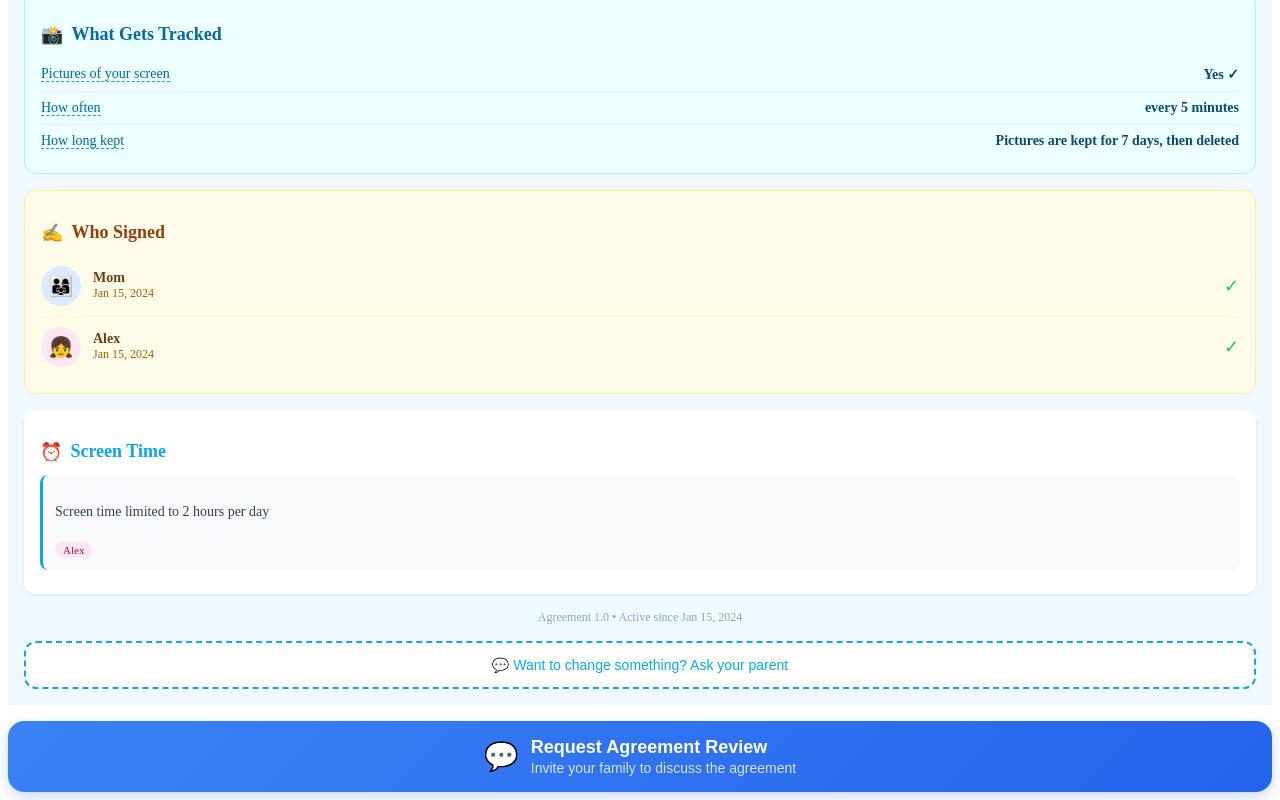
Scenario: ChildAgreementContainer › Task 6.2: Pass necessary data to modal › should pass parentName to modal for confirmation message
The width and height of the screenshot is (1280, 800).
(page scrolled)
Step 1. Click the button with test id "request-change-button" → x=640, y=665, box [24, 641, 1256, 689]
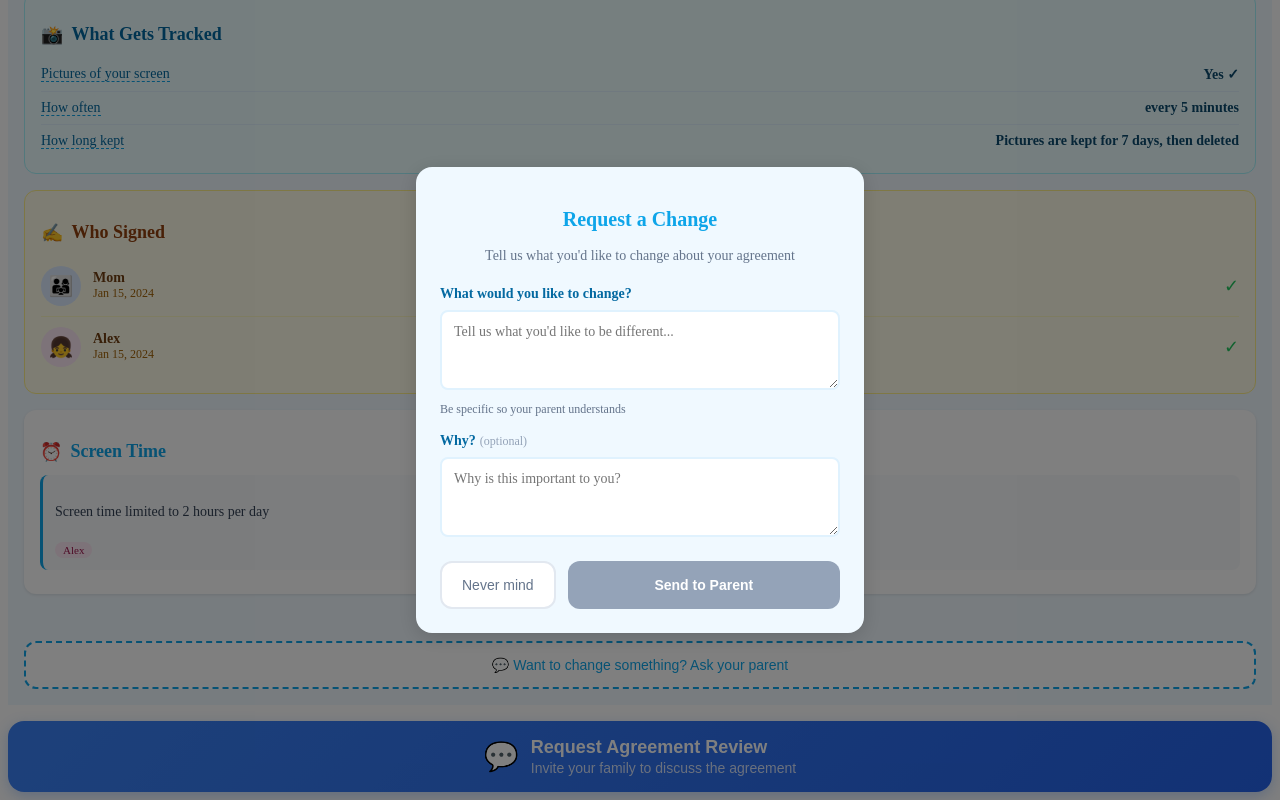
Step 2. Type "More screen time" into the text box with test id "what-to-change-input" → x=640, y=350, box [440, 310, 840, 390]
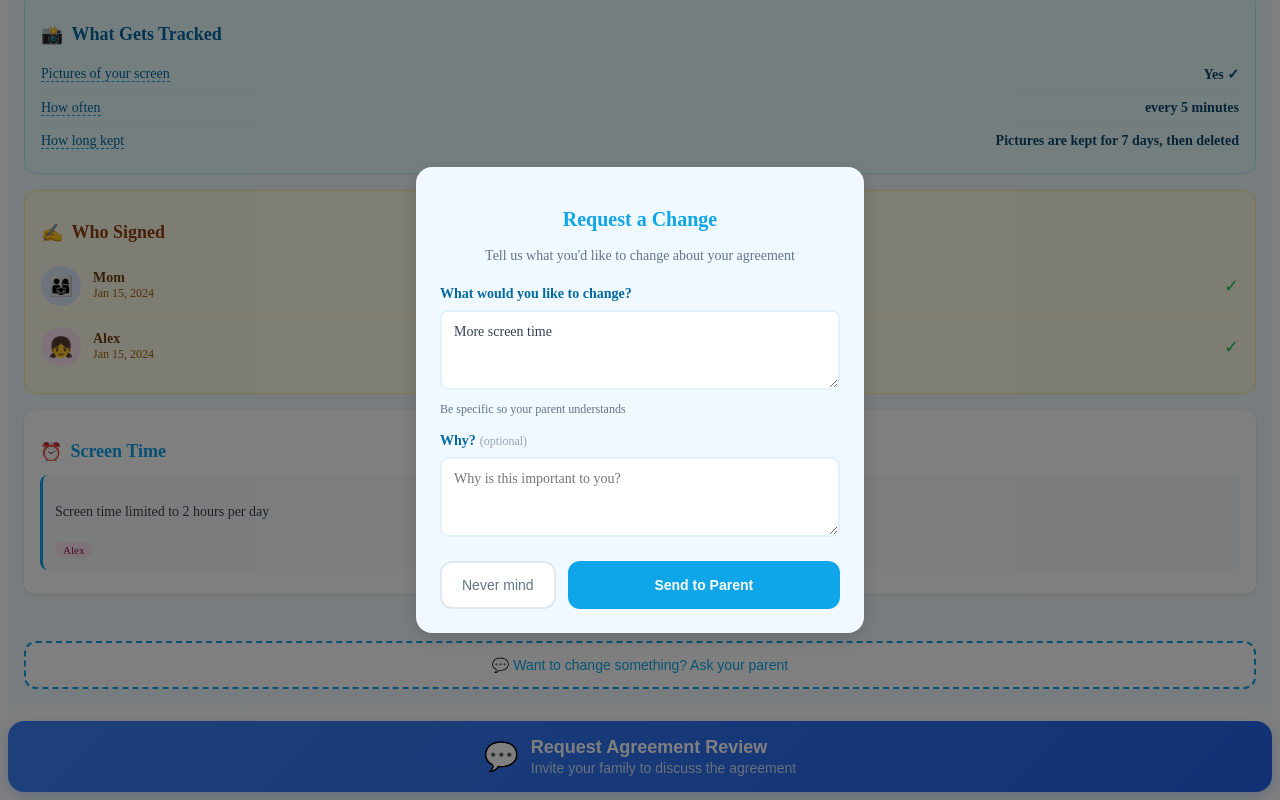
Step 3. Click the button with test id "submit-button" → x=704, y=585, box [568, 561, 840, 609]
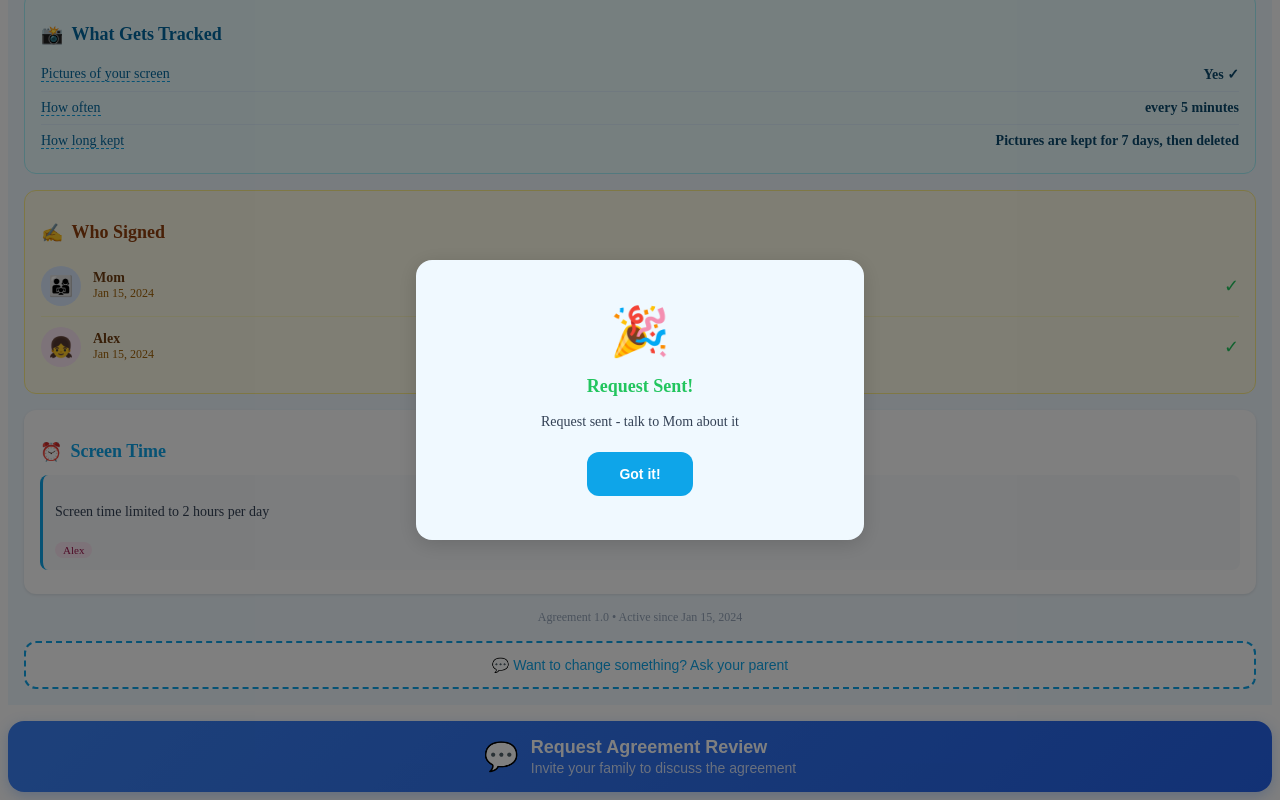
Expected: the text with test id "success-message" shows "Mom", [663, 414, 693, 429]
